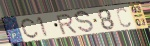1: (36, 16, 50, 37)
8: (97, 8, 116, 31)
C: (20, 18, 40, 39), (116, 7, 132, 29)
R: (55, 13, 79, 36)
S: (74, 10, 95, 35)
